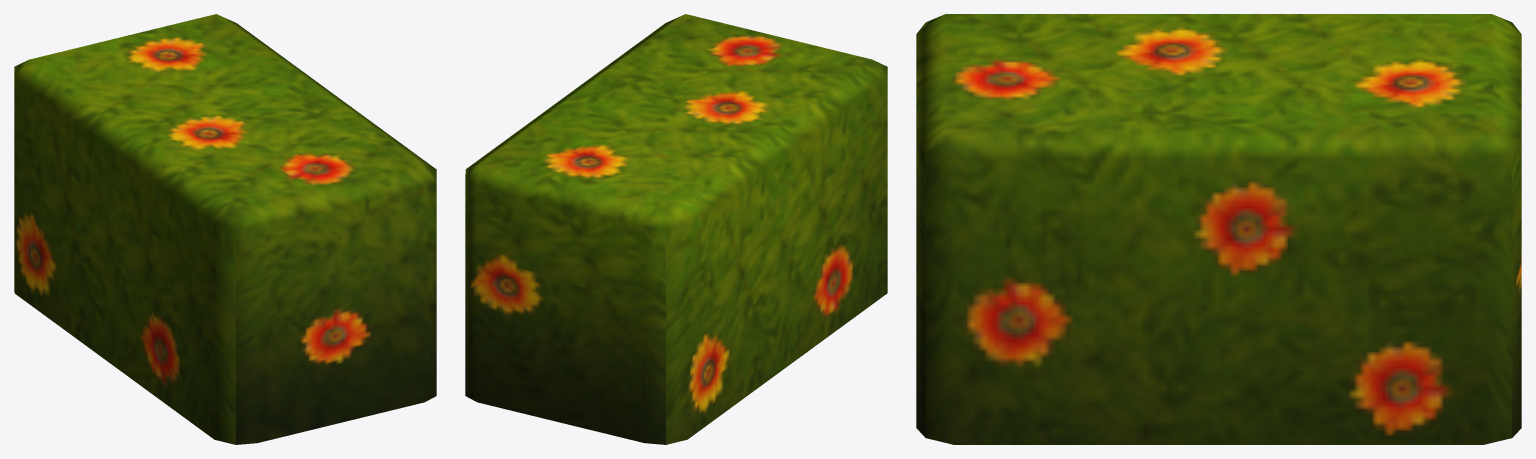
The model's file is Hedge_1a_atlas.fbx.
The picture shows the model from 3 angles, left to right: view 1: azimuth 30°, elevation 25°; view 2: azimuth 150°, elevation 25°; view 3: azimuth 270°, elevation 25°; orthographic projection. The views are drawn at different scales.
Visible parts, largest first — view 1: polySurface1; view 2: polySurface1; view 3: polySurface1.
Part boxes in pixels (box(x1,y1,x2,y2)): polySurface1: box(14, 14, 436, 444); polySurface1: box(465, 14, 887, 444); polySurface1: box(916, 14, 1521, 444).
Bounding box in the file's own units: 1.54 × 1.5 × 2.74.
